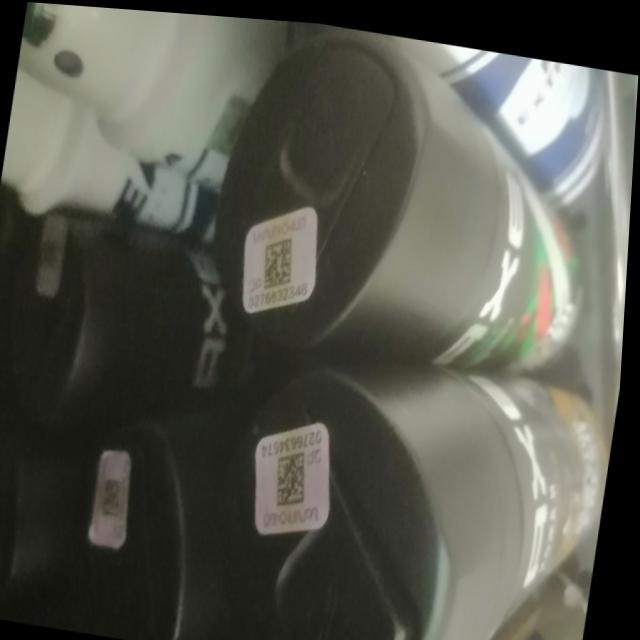datamatrix: (276, 441, 318, 506), (262, 227, 302, 288)
